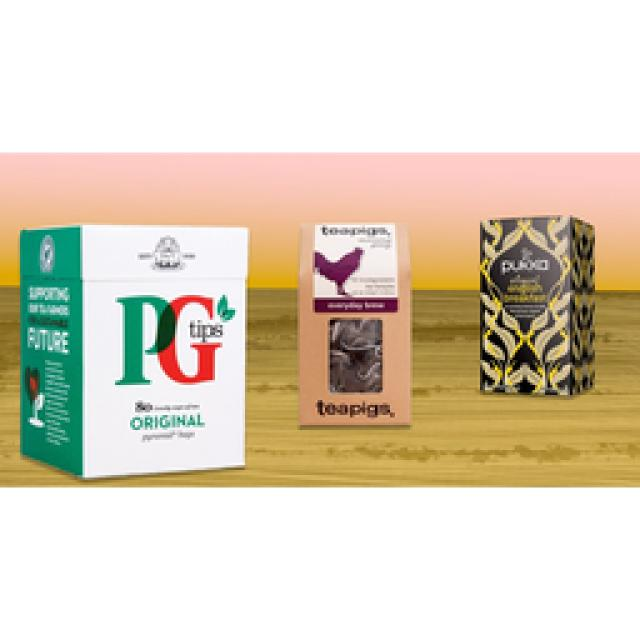tea-bags: (20, 225, 248, 478), (300, 222, 408, 422), (480, 215, 592, 392)
